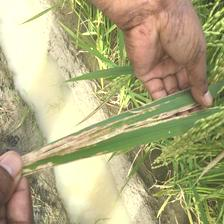2 BacterialBlight: (46, 104, 198, 149)
